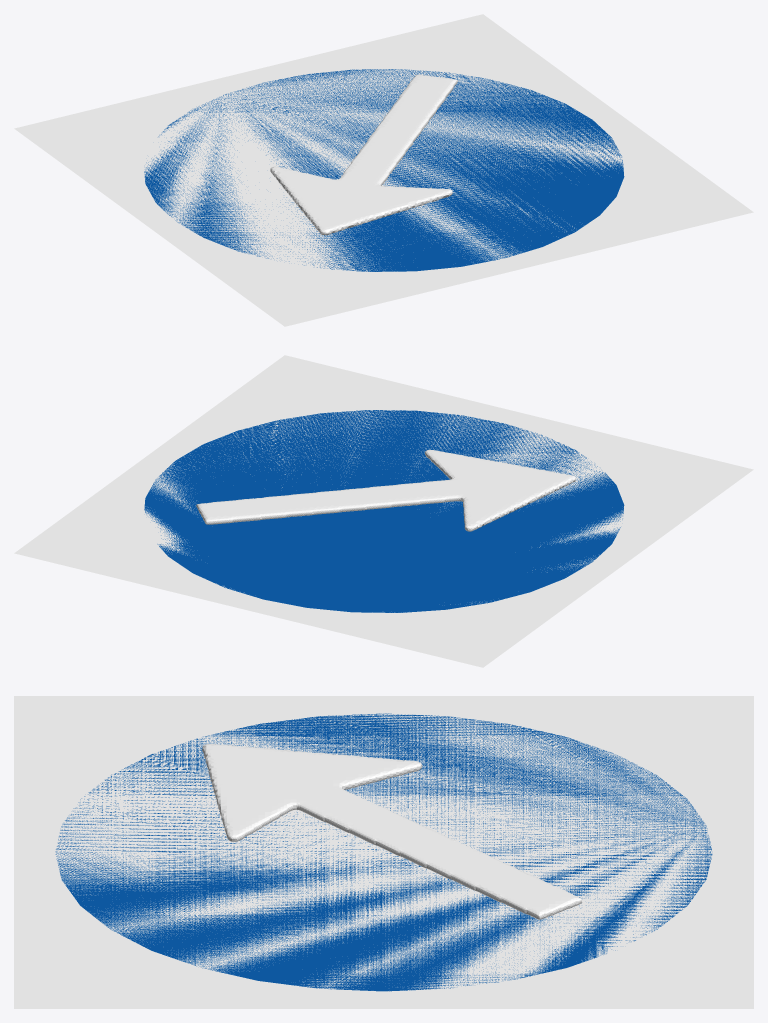
File: trafficArrowSign.fbx
The picture shows the model from 3 angles, top to bottom: view 1: azimuth 30°, elevation 25°; view 2: azimuth 150°, elevation 25°; view 3: azimuth 270°, elevation 25°; orthographic projection. The views are drawn at different scales.
Visible parts, largest first — view 1: Plane.002, Circle, Plane.001; view 2: Circle, Plane.002, Plane.001; view 3: Plane.002, Circle, Plane.001.
Part boxes in pixels (x1=…): Plane.002: x1=14, y1=14, x2=753, y2=326; Circle: x1=144, y1=69, x2=624, y2=271; Plane.001: x1=270, y1=74, x2=457, y2=235; Circle: x1=144, y1=410, x2=624, y2=612; Plane.002: x1=14, y1=355, x2=753, y2=667; Plane.001: x1=196, y1=449, x2=575, y2=531; Plane.002: x1=14, y1=696, x2=753, y2=1008; Circle: x1=55, y1=713, x2=712, y2=991; Plane.001: x1=202, y1=744, x2=582, y2=919.
Size of the model in its own units: 1800 by 67.55 by 1800.
